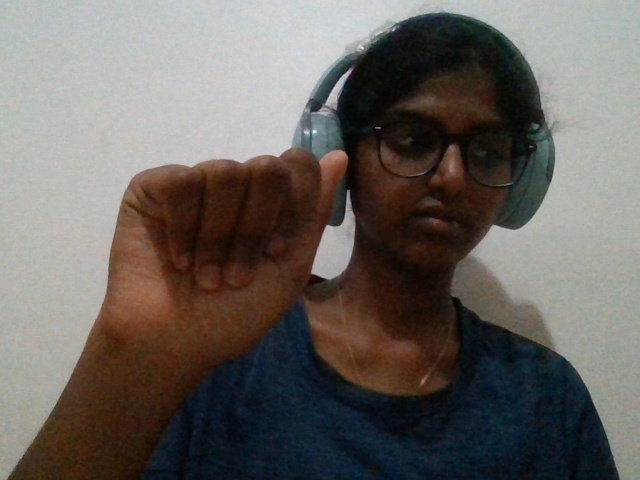A: (61, 131, 365, 411)
